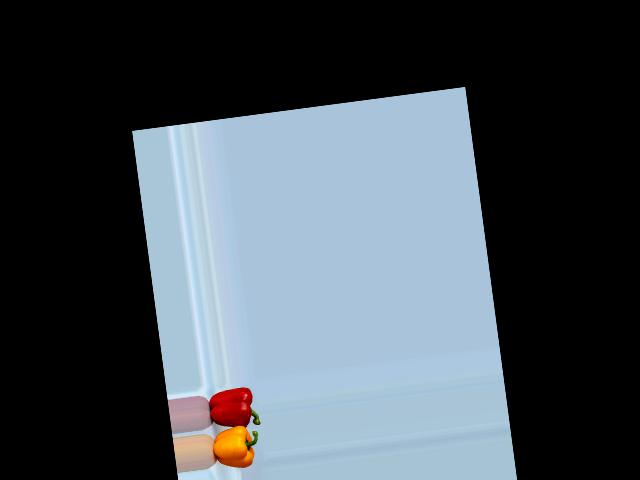bell_pepper: (201, 382, 259, 433)
